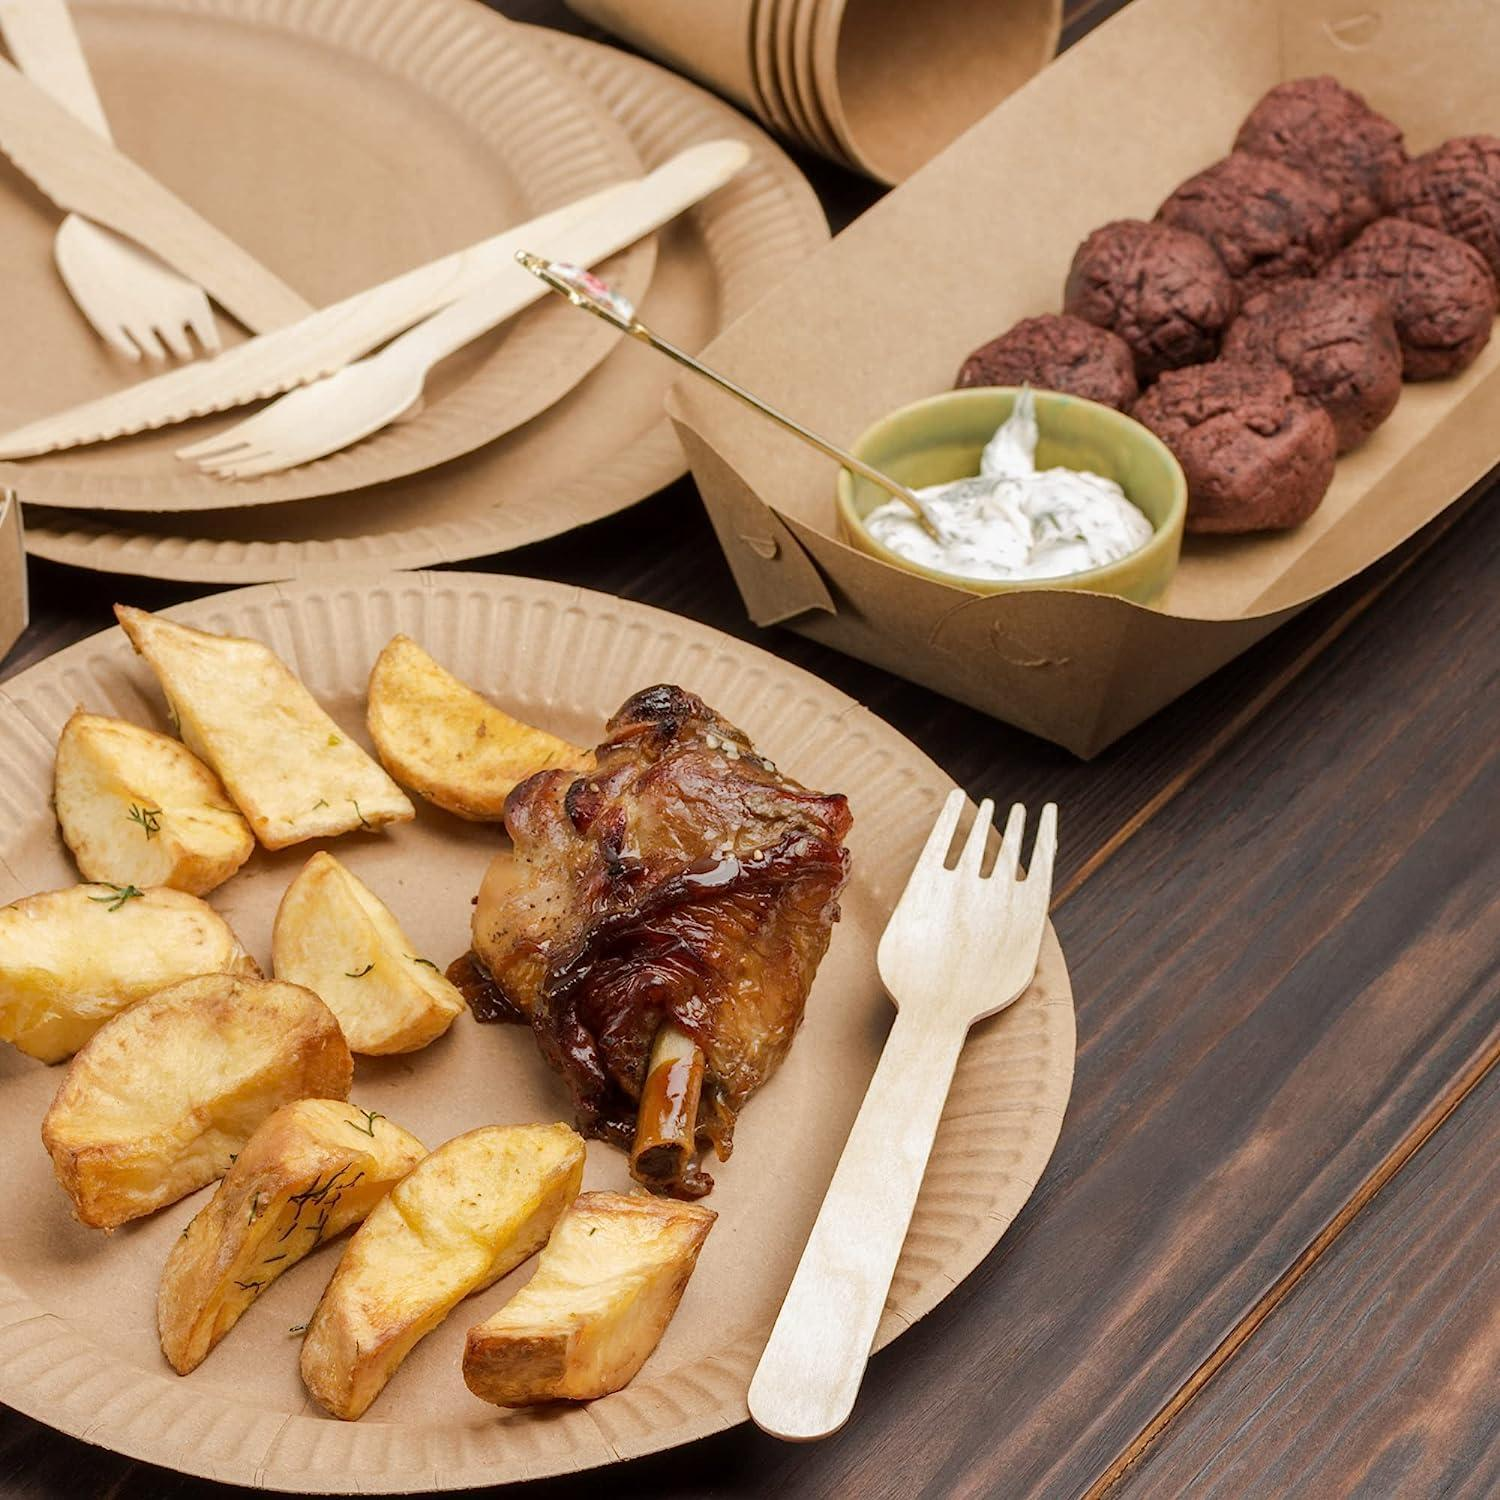Wooden Utensils: (27, 67, 663, 467), (777, 760, 1087, 1455)
